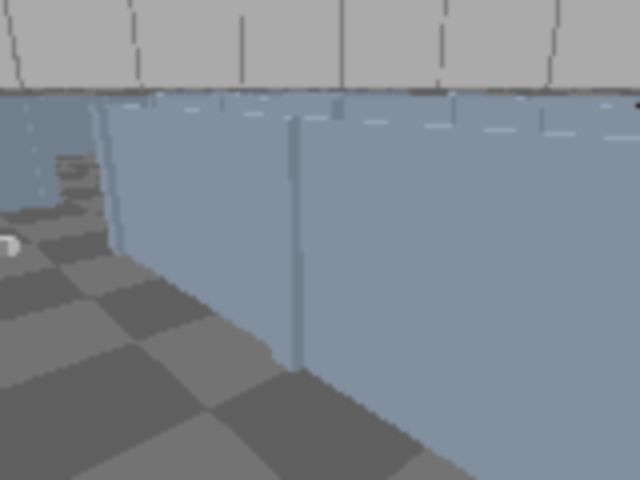puck: (0, 235, 20, 256)
